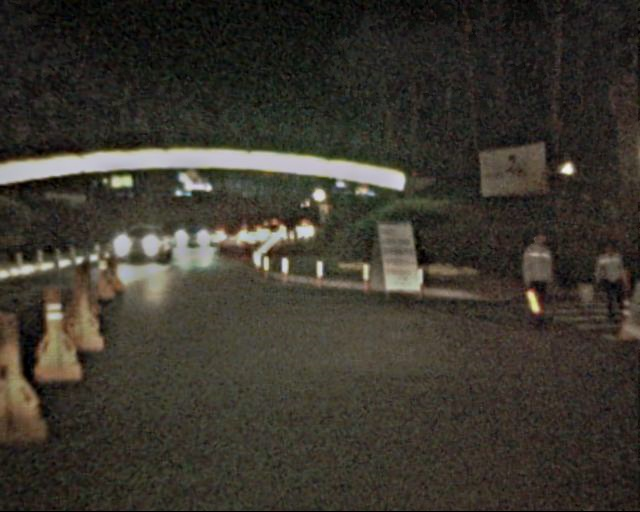person: (513, 230, 564, 333), (587, 241, 628, 319)
